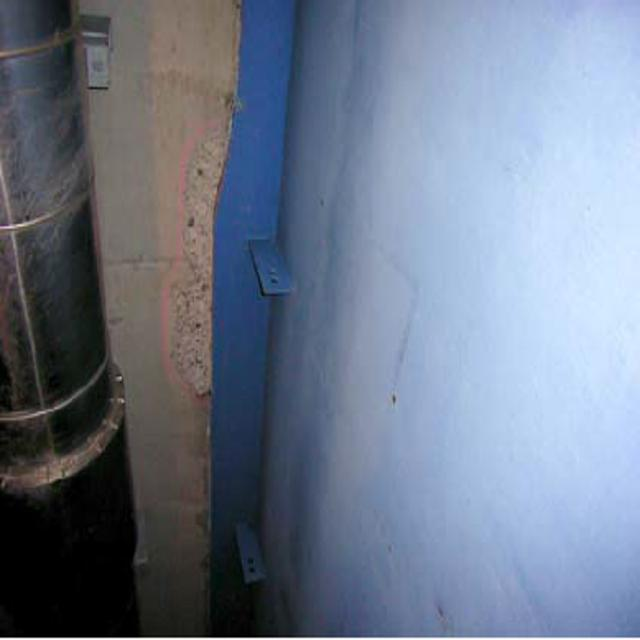spalling: (168, 111, 232, 403)
